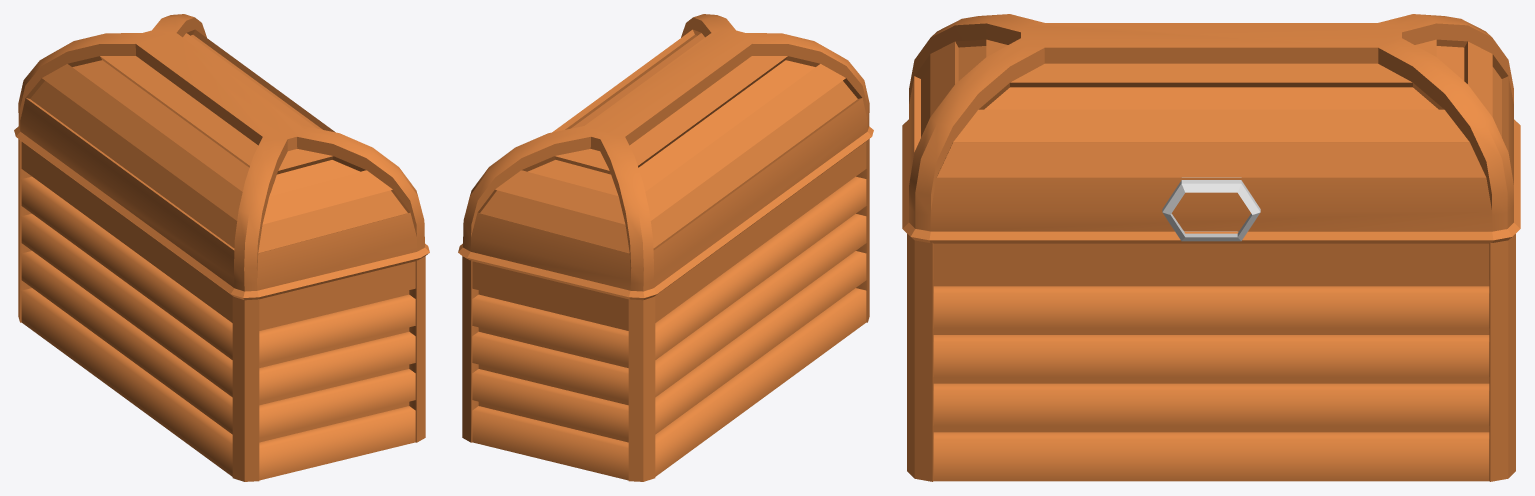
The model's file is Bau Better.fbx.
3 views of the same model, side by side, from view 1: azimuth 30°, elevation 25°; view 2: azimuth 150°, elevation 25°; view 3: azimuth 270°, elevation 25° (orthographic). The views are drawn at different scales.
Visible parts, largest first — view 1: Plane; view 2: Plane; view 3: Plane.
Boxes of the visible parts, left/top/right/bottom form: Plane: left=14, top=14, right=429, bottom=481; Plane: left=458, top=14, right=873, bottom=481; Plane: left=902, top=14, right=1520, bottom=481.
Bounding box in the file's own units: 232 × 316 × 460.
